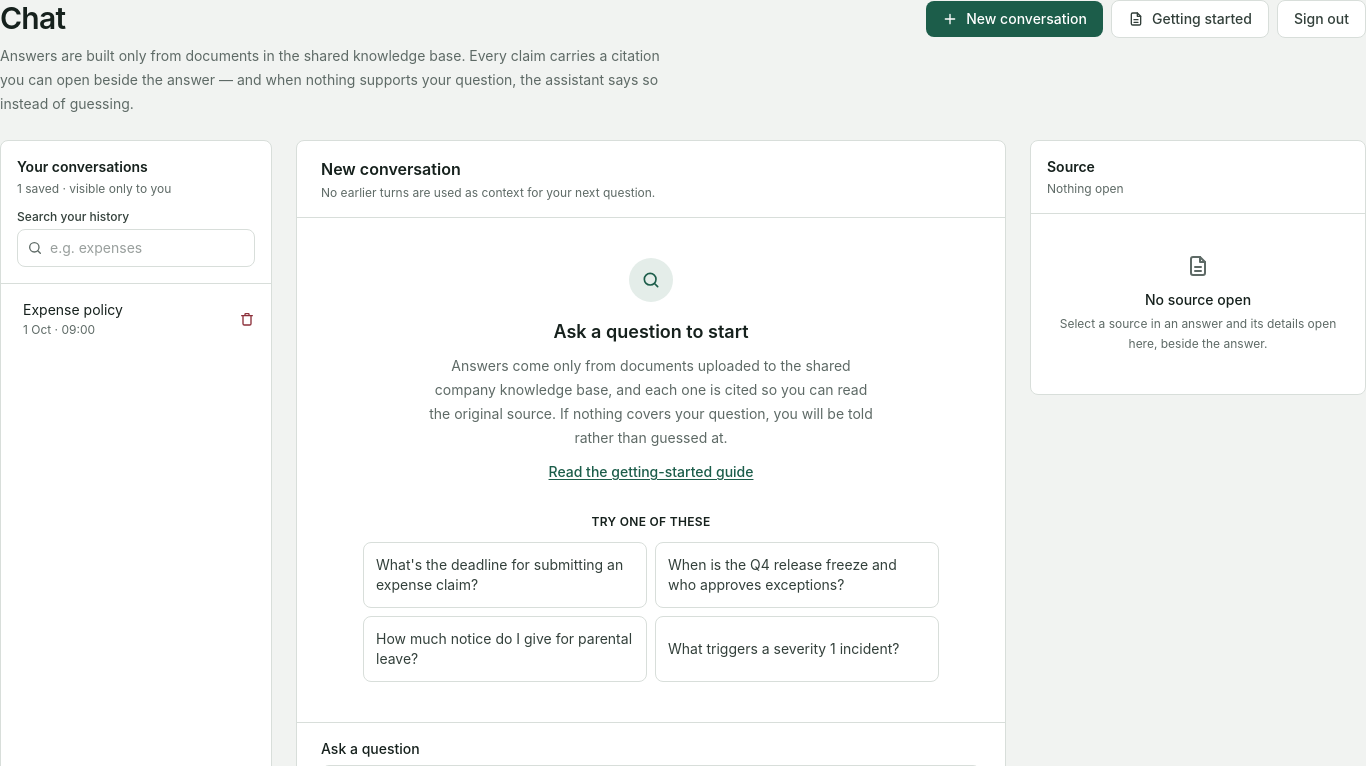
Test case: Chat screen › deletes a conversation via DELETE /conversations/{id} and removes it, clearing the open transcript
The image size is (1366, 766).
Click the text "Expense policy" at (73, 310), box [23, 301, 123, 318]
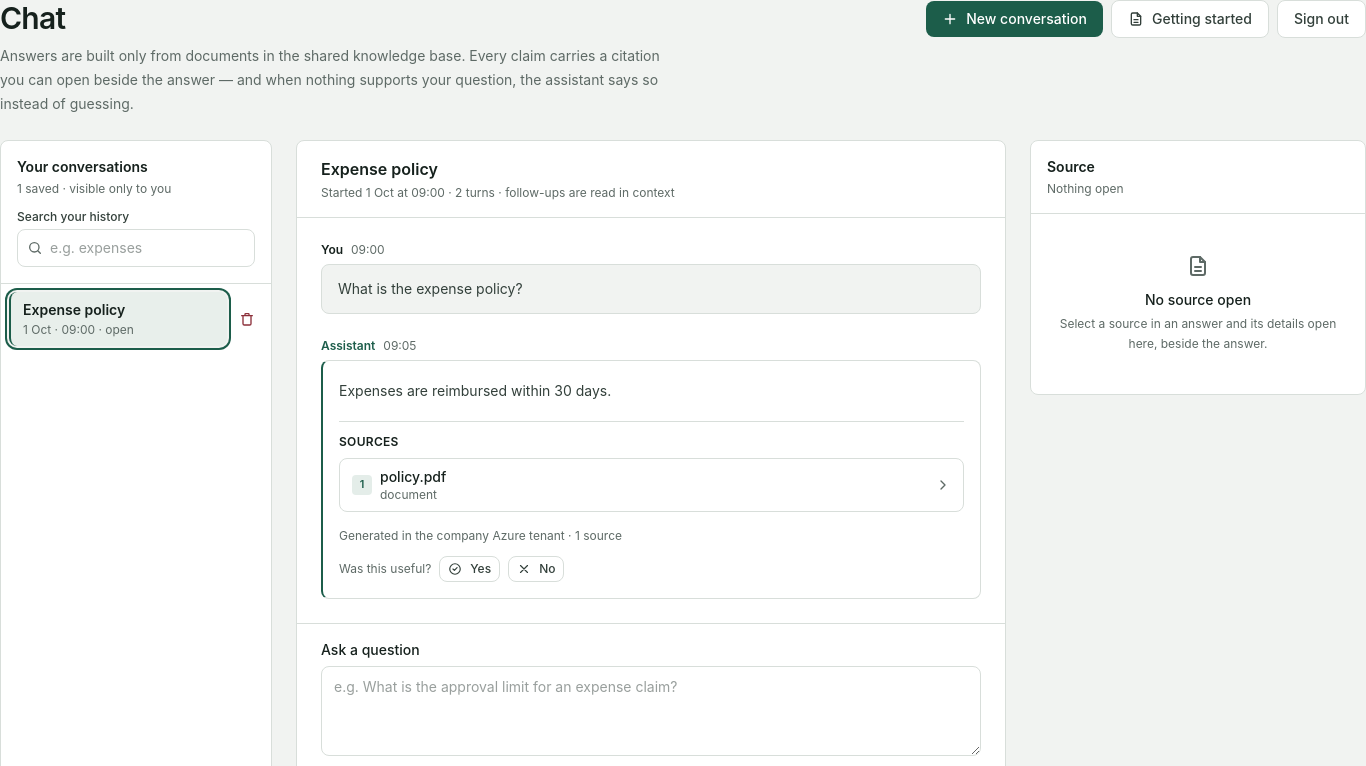
Expected: the text "What is the expense policy?" is shown, [321, 264, 981, 314]
Click the button named "Delete conversation: Expense policy" at (247, 319), box [231, 292, 263, 346]
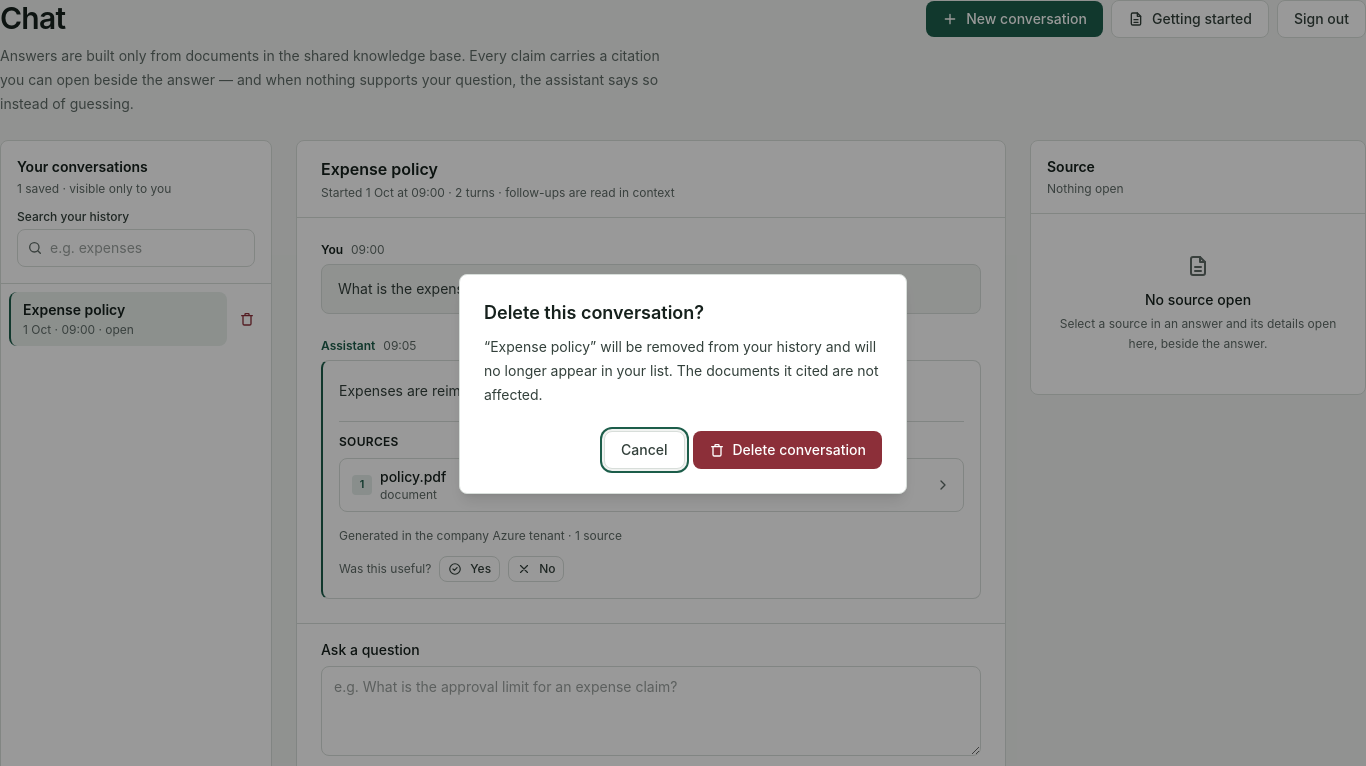
Click the button "Delete conversation" at (787, 450), box [692, 431, 882, 469]
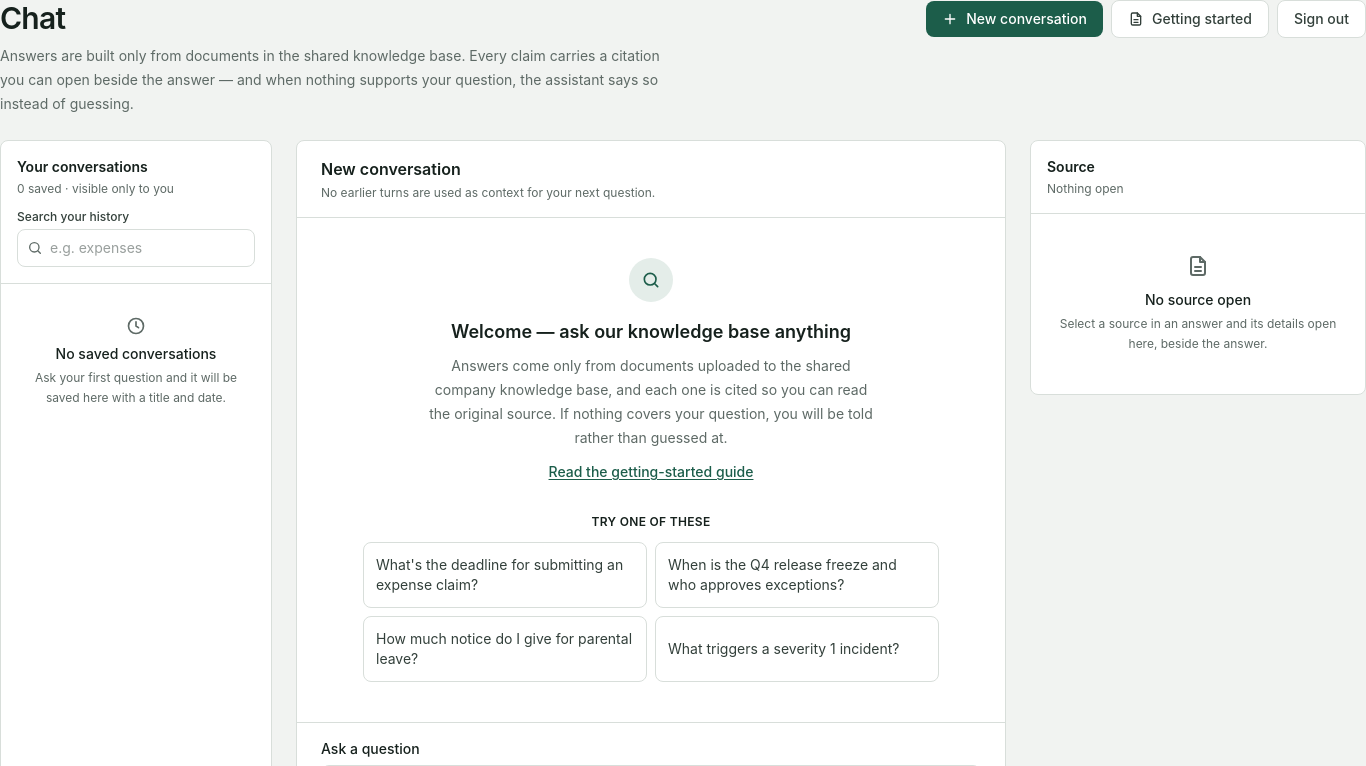
Expected: the text "What is the expense policy?" is gone
